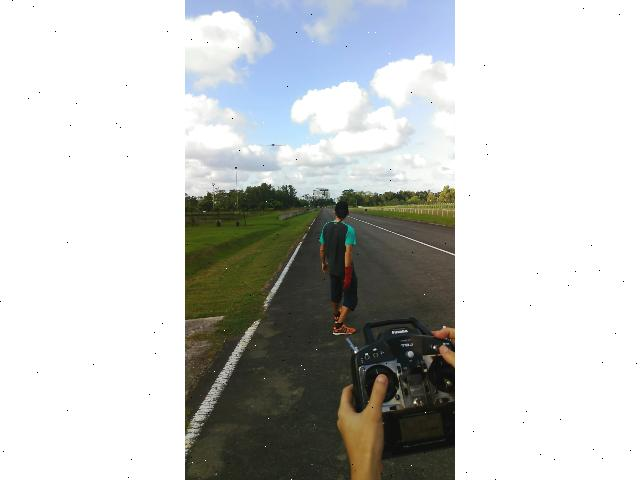Anti-Drone: (258, 142, 288, 148)
